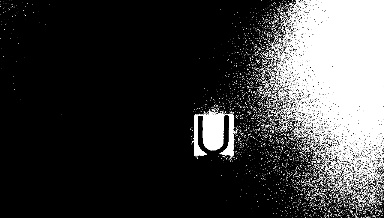U: (193, 113, 232, 154)
